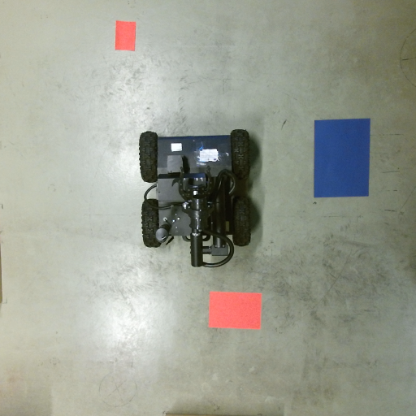Blue: (313, 117, 370, 199)
Jaguar: (136, 128, 254, 270)
Red: (209, 289, 262, 332), (113, 19, 137, 51)
